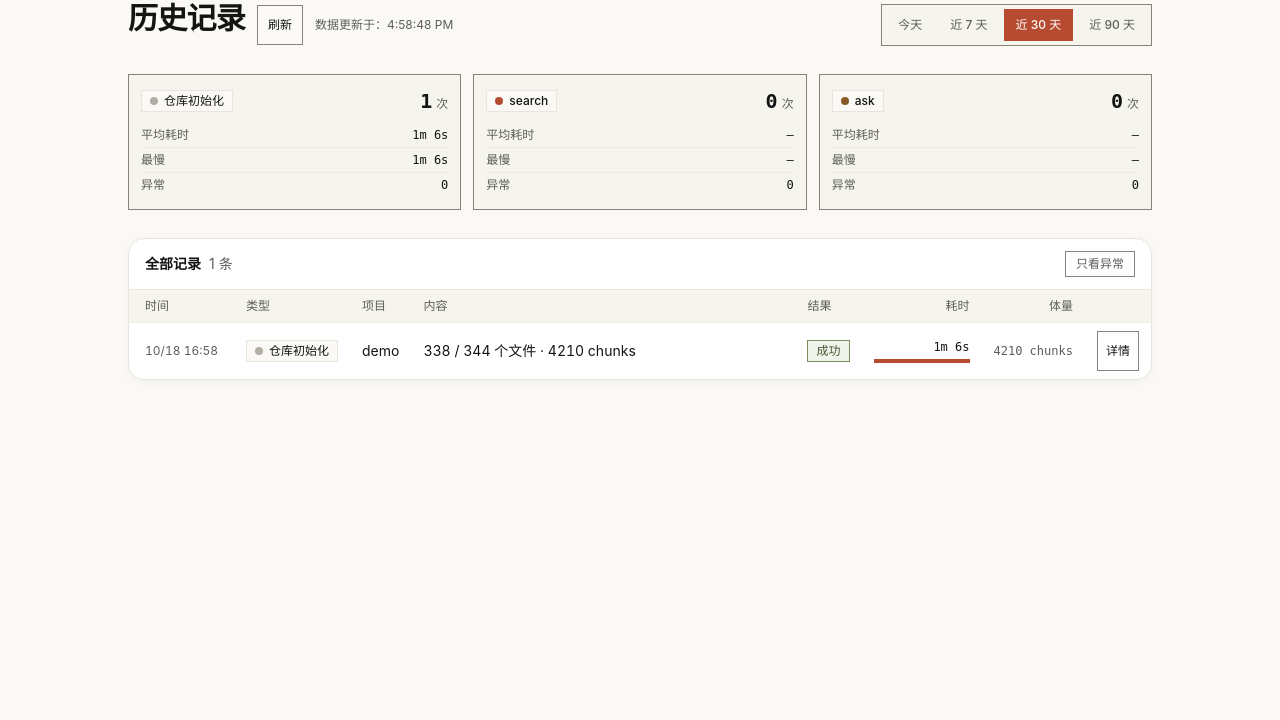
初始化的分阶段耗时 › 没有阶段数据（旧记录）→ 如实说明，不画空瀑布
The image size is (1280, 720).
Click the button "详情": (1118, 351) [1097, 331, 1139, 371]
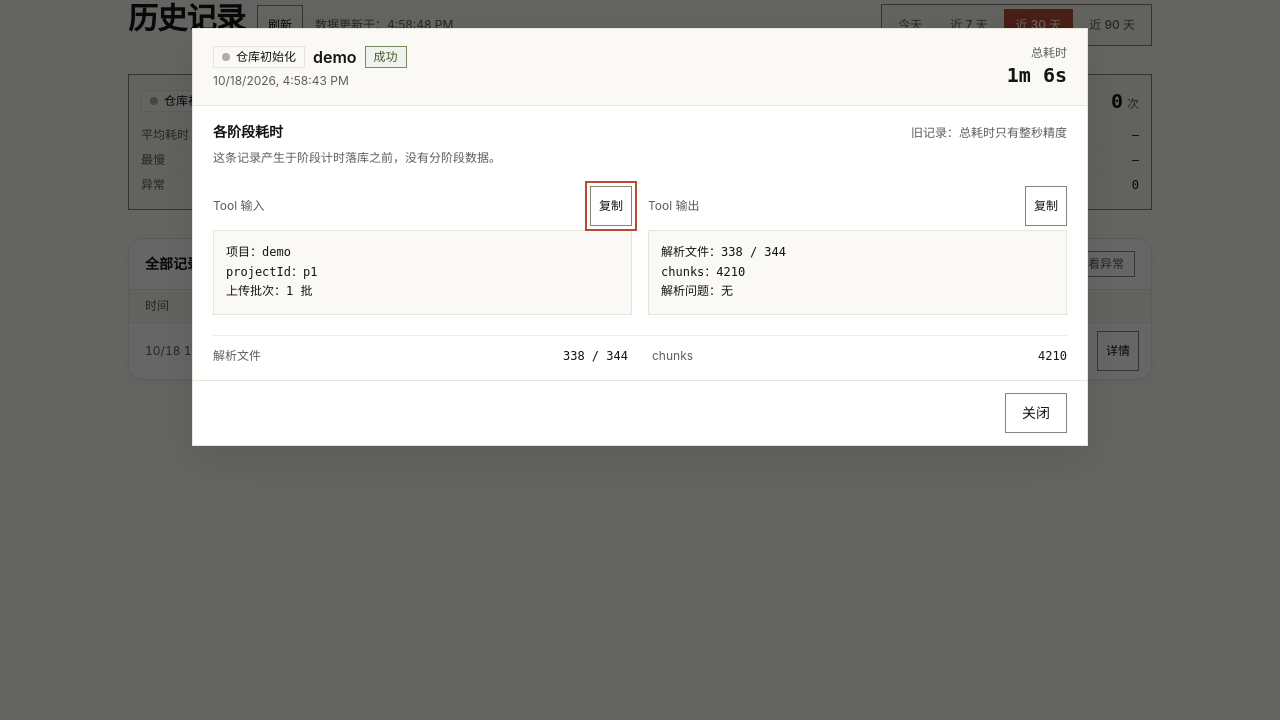
Expected: the text "这条记录产生于阶段计时落库之前，没有分阶段数据。" is shown, [213, 150, 501, 165]
